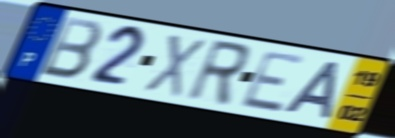2: (82, 24, 151, 91)
A: (280, 59, 344, 123)
B: (37, 14, 105, 82)
E: (237, 49, 309, 116)
R: (182, 38, 254, 110)
X: (141, 32, 208, 100)
